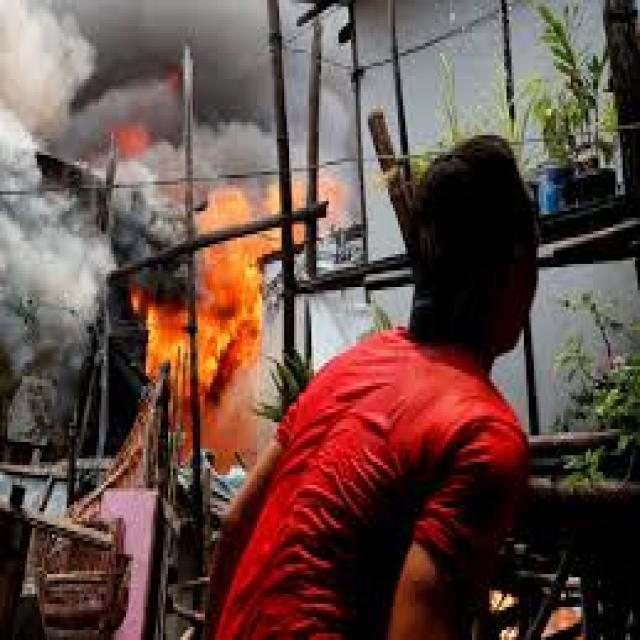Fire: (123, 174, 285, 406)
Smoke: (0, 0, 300, 206), (0, 198, 105, 456)
